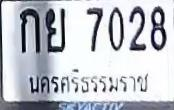0: (108, 6, 124, 51)
2: (128, 5, 146, 50)
7: (86, 7, 103, 52)
8: (150, 5, 166, 50)
A01: (19, 8, 39, 52)
A34: (44, 7, 66, 52)
NST: (26, 66, 154, 97)
